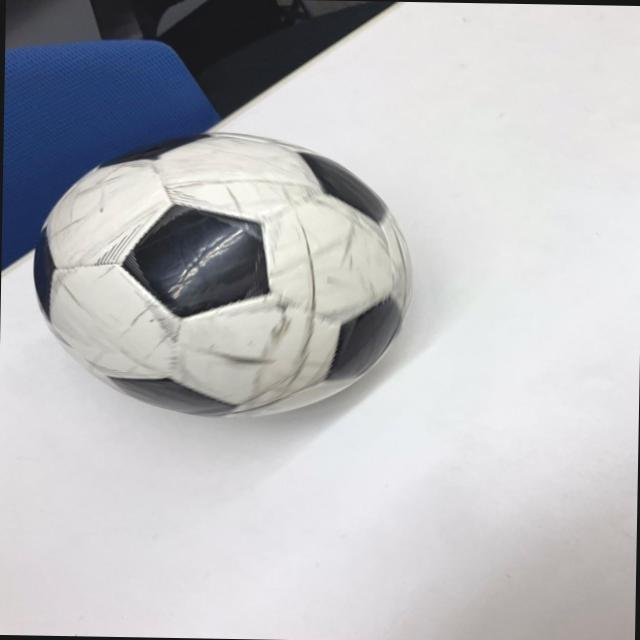Soccer Ball: (31, 128, 408, 426)
